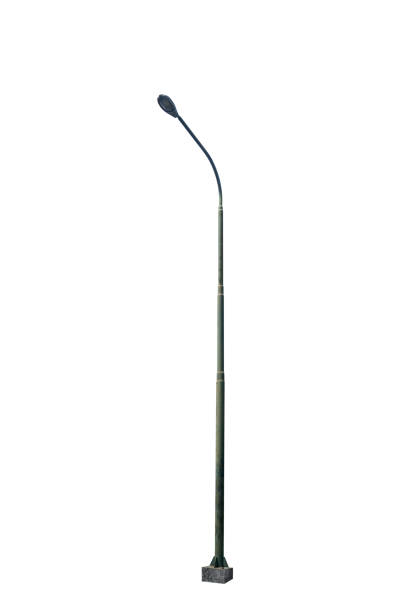light_pole: (212, 207, 228, 570)
